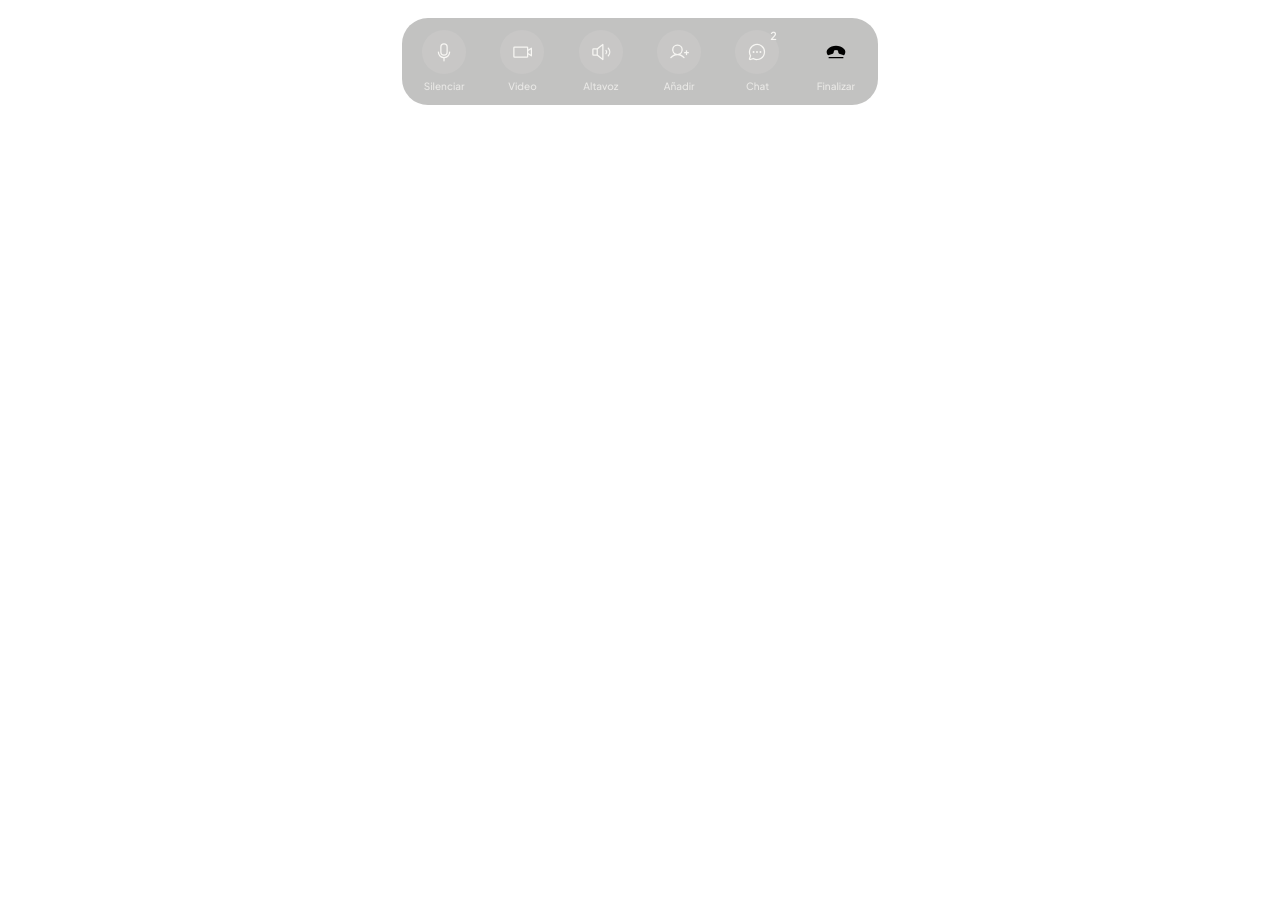
Test: ChatEnLlamada › cuenta como no leídos sólo los mensajes ajenos que llegan con el panel cerrado
Expected: the text with test id "insignia-chat" reads "2", [770,29,777,42]
Click the button with aria-label "Abrir el chat" at (757,61), box [719,24,796,98]
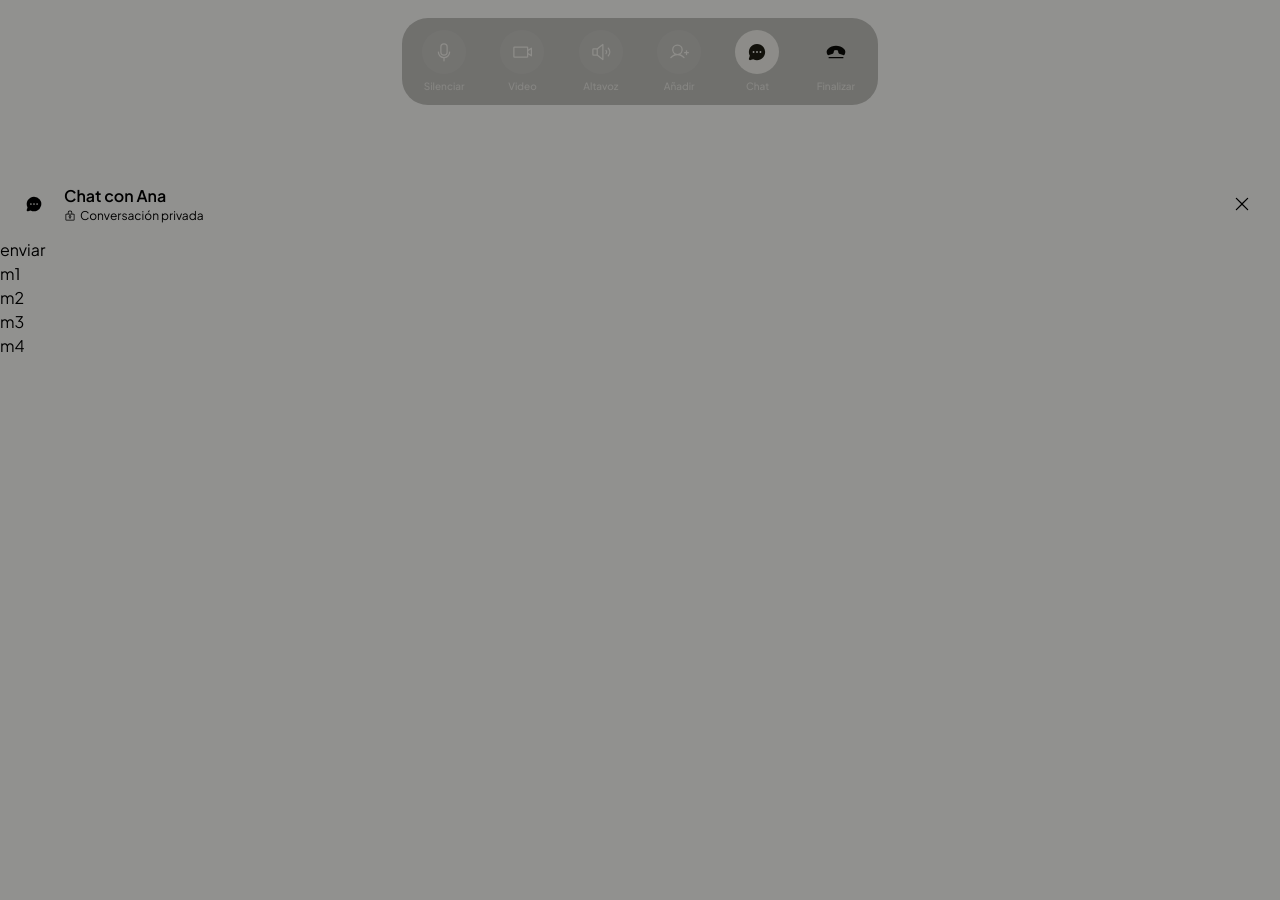
Result: the text with test id "insignia-chat" is gone
